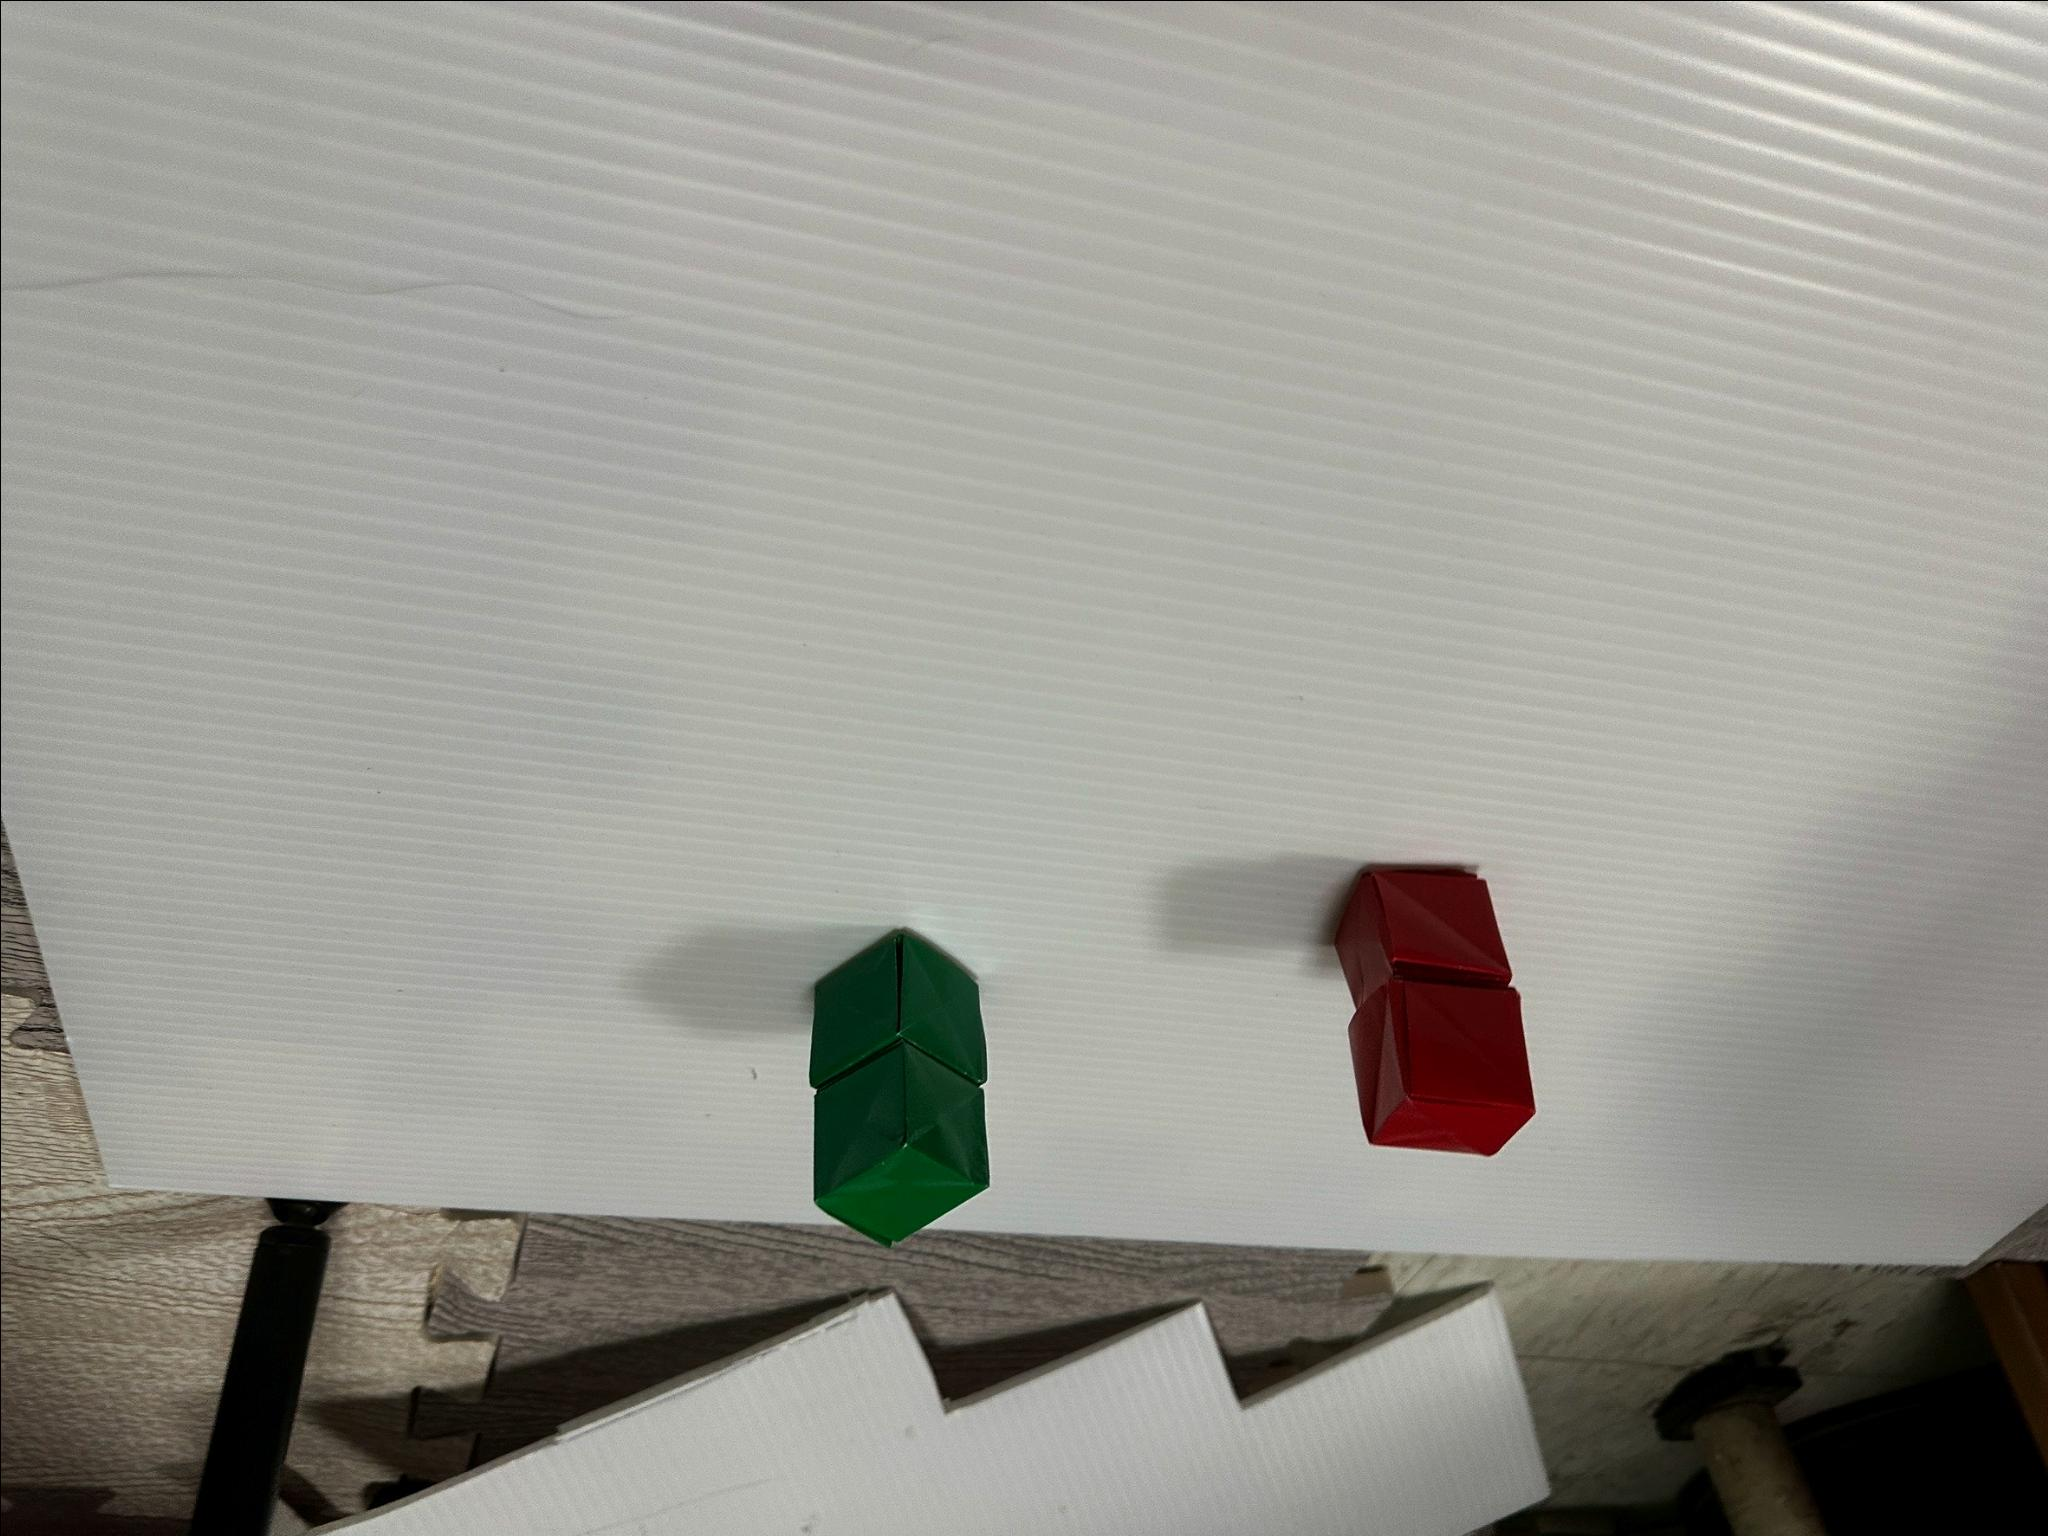base: (814, 1044, 989, 1239), (1348, 979, 1532, 1154), (810, 933, 985, 1087), (1335, 871, 1509, 1007)
